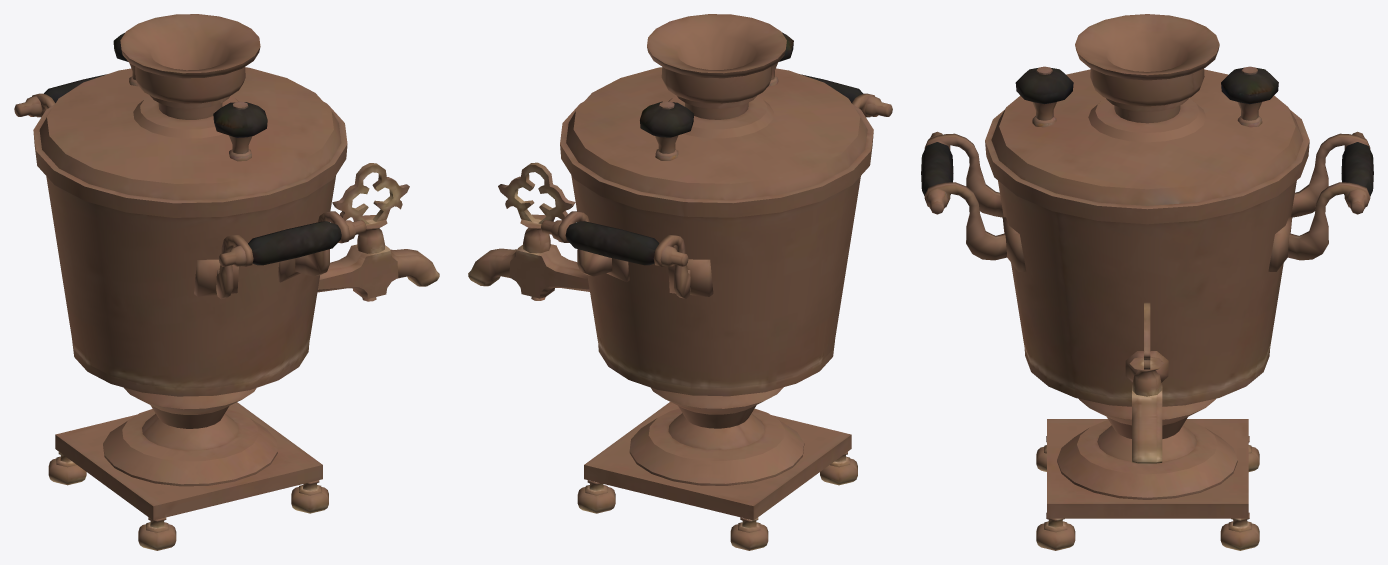
The model's file is coci_samovar.glb.
3 renders of one model, left to right at view 1: azimuth 30°, elevation 25°; view 2: azimuth 150°, elevation 25°; view 3: azimuth 270°, elevation 25°, orthographic. The views are drawn at different scales.
Size of the model in its own units: 0.4445 by 0.5 by 0.4446.
Materials: 1 (1 with a texture image).
